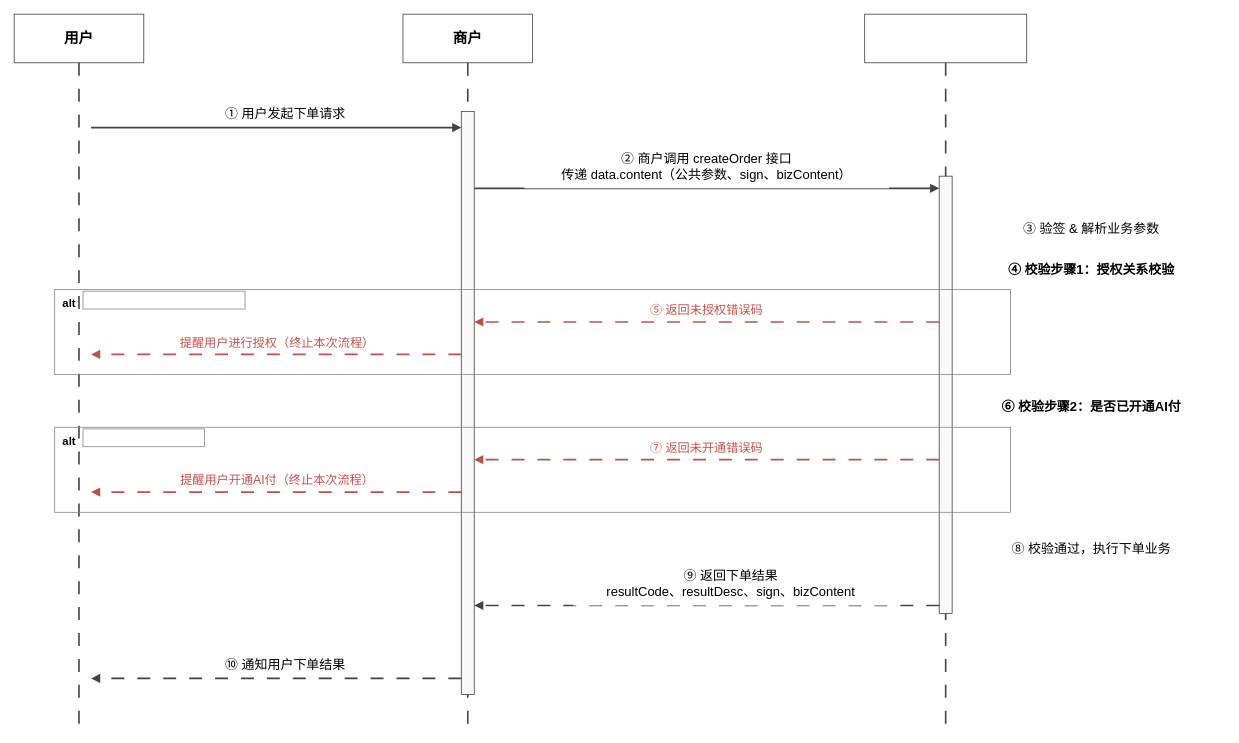
This 1239x743 diagram has some shape labels left out. Here are the shapes that lost their labels. From the top down, the centre of each, then its label:
At (x=945, y=38): "京东AI付".
At (x=163, y=299): "[授权关系校验不通过]".
At (x=143, y=437): "[未开通AI付]".
